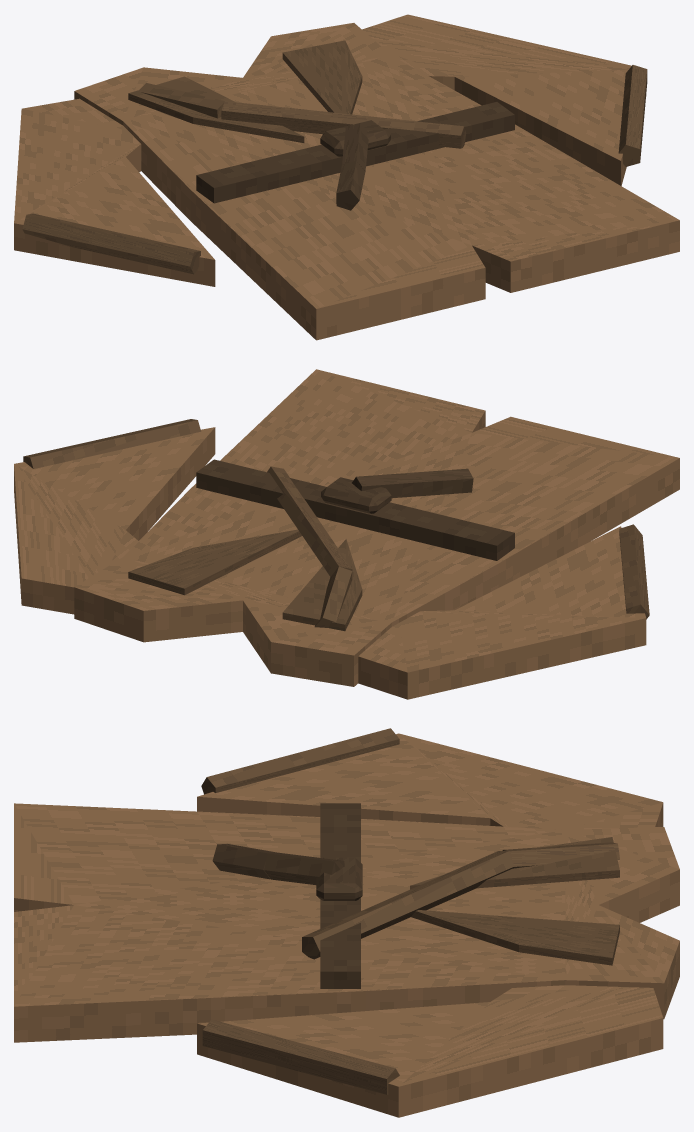
Rendered from robe.glb.
3 renders of one model, top to bottom at view 1: azimuth 30°, elevation 25°; view 2: azimuth 150°, elevation 25°; view 3: azimuth 270°, elevation 25°, orthographic. The views are drawn at different scales.
Parts seen in each view (by area): view 1: block_coat body, block_sleeve (×2), block_tied sash, block_lapel (×2), block_cuff 0 (×2), block_crossed lapel 1, block_crossed lapel 0, block_sash knot, block_sash ends 1, block_sash ends 0; view 2: block_coat body, block_sleeve (×2), block_tied sash, block_lapel (×2), block_cuff 0 (×2), block_crossed lapel 1, block_sash knot, block_sash ends 0, block_sash ends 1, block_crossed lapel 0; view 3: block_coat body, block_sleeve (×2), block_lapel (×2), block_cuff 0 (×2), block_tied sash, block_crossed lapel 1, block_sash ends 0, block_crossed lapel 0, block_sash knot, block_sash ends 1.
Boxes of the visible parts, x1=… form: block_coat body: x1=74, y1=23, x2=679, y2=340; block_sleeve (×2): x1=14, y1=14, x2=646, y2=286; block_tied sash: x1=196, y1=102, x2=514, y2=203; block_lapel (×2): x1=128, y1=40, x2=362, y2=142; block_cuff 0 (×2): x1=22, y1=65, x2=647, y2=274; block_crossed lapel 1: x1=221, y1=101, x2=466, y2=148; block_crossed lapel 0: x1=138, y1=83, x2=224, y2=118; block_sash knot: x1=320, y1=120, x2=390, y2=156; block_sash ends 1: x1=336, y1=161, x2=365, y2=210; block_sash ends 0: x1=342, y1=123, x2=368, y2=171; block_coat body: x1=74, y1=369, x2=679, y2=686; block_sleeve (×2): x1=14, y1=427, x2=646, y2=699; block_tied sash: x1=196, y1=459, x2=514, y2=560; block_lapel (×2): x1=128, y1=529, x2=362, y2=631; block_cuff 0 (×2): x1=23, y1=419, x2=649, y2=619; block_crossed lapel 1: x1=267, y1=466, x2=352, y2=576; block_sash knot: x1=321, y1=477, x2=391, y2=513; block_sash ends 0: x1=352, y1=472, x2=423, y2=498; block_sash ends 1: x1=418, y1=468, x2=473, y2=495; block_crossed lapel 0: x1=314, y1=566, x2=352, y2=627; block_coat body: x1=14, y1=803, x2=679, y2=1042; block_sleeve (×2): x1=197, y1=733, x2=663, y2=1117; block_lapel (×2): x1=410, y1=837, x2=619, y2=965; block_cuff 0 (×2): x1=201, y1=728, x2=399, y2=1094; block_tied sash: x1=320, y1=803, x2=360, y2=988; block_crossed lapel 1: x1=302, y1=851, x2=514, y2=959; block_sash ends 0: x1=264, y1=852, x2=344, y2=884; block_crossed lapel 0: x1=502, y1=842, x2=619, y2=868; block_sash knot: x1=316, y1=857, x2=362, y2=900; block_sash ends 1: x1=212, y1=843, x2=276, y2=879.
Bounding box in the file's own units: 0.8122 × 0.0863 × 0.6469.
1 material, 1 textured.
